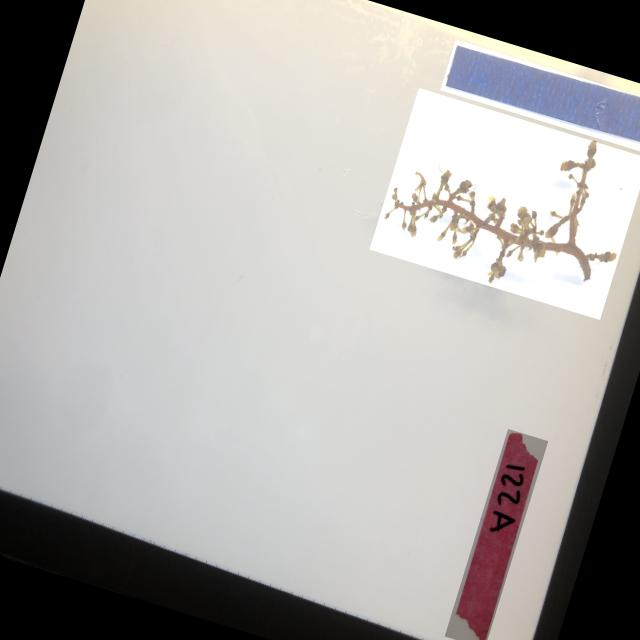index: (443, 428, 547, 640)
measure_label: (438, 39, 640, 156)
rachis_cluster: (368, 87, 640, 319)
